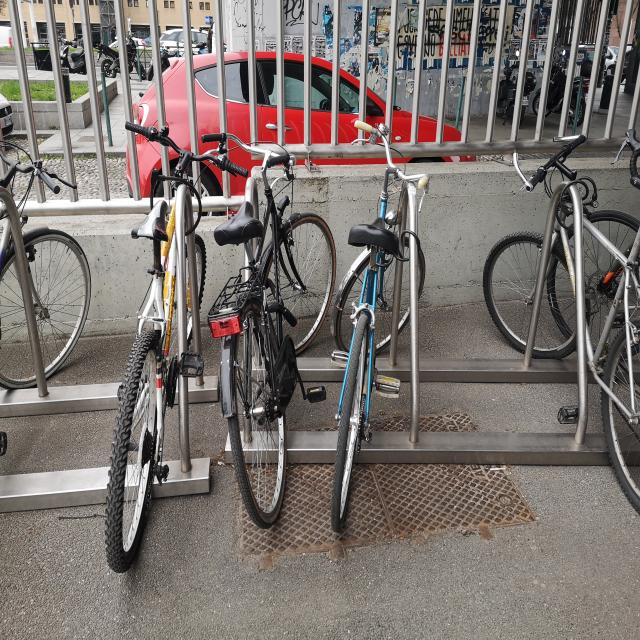Bicycle: (78, 120, 248, 552), (208, 129, 345, 540), (313, 116, 445, 518), (506, 128, 640, 494), (0, 125, 96, 426), (594, 120, 640, 315)
